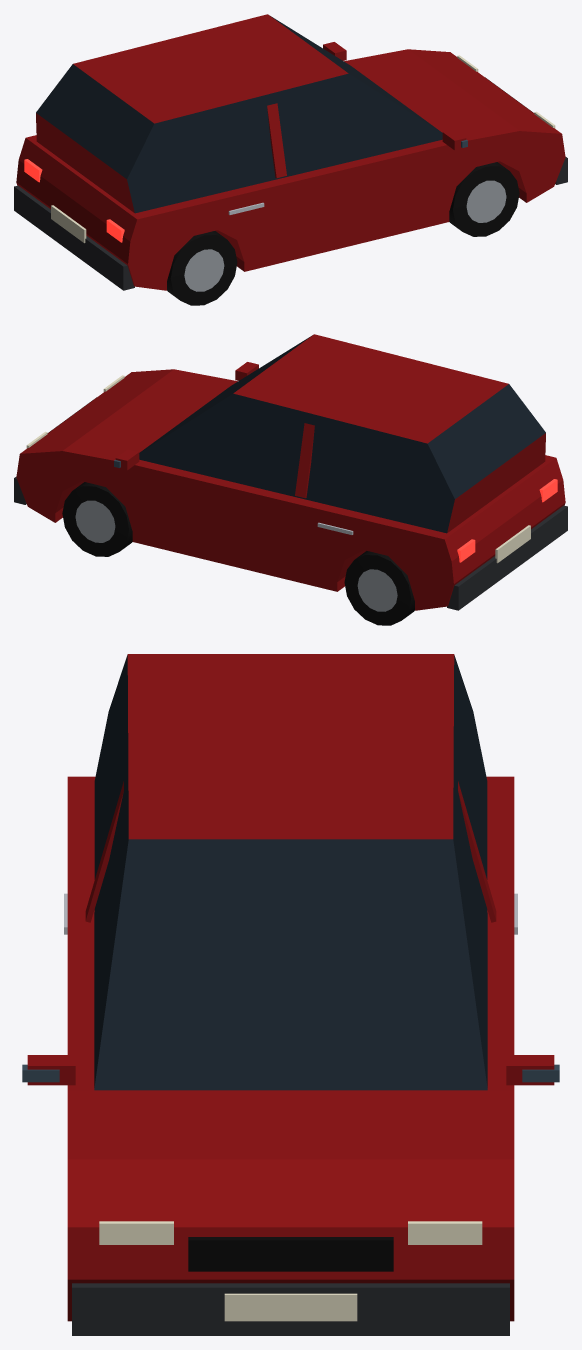
Rendered from hatchback.glb.
3 views of the same model, one above another, from view 1: azimuth 30°, elevation 25°; view 2: azimuth 150°, elevation 25°; view 3: azimuth 270°, elevation 25° (orthographic). The views are drawn at different scales.
Visible parts, largest first — view 1: hatchback_body, wheel_fr, wheel_rr.002; view 2: hatchback_body, wheel_fl, wheel_rl.002; view 3: hatchback_body.
Boxes of the visible parts, x1,y1,x2,y2 form: hatchback_body: (14, 14, 567, 290); wheel_fr: (449, 162, 519, 236); wheel_rr.002: (167, 231, 237, 305); hatchback_body: (14, 334, 567, 610); wheel_fl: (62, 482, 132, 556); wheel_rl.002: (344, 551, 414, 625); hatchback_body: (22, 654, 559, 1335).
Size of the model in its own units: 3.88 by 1.52 by 2.02.
Materials: 2 (1 with a texture image).
